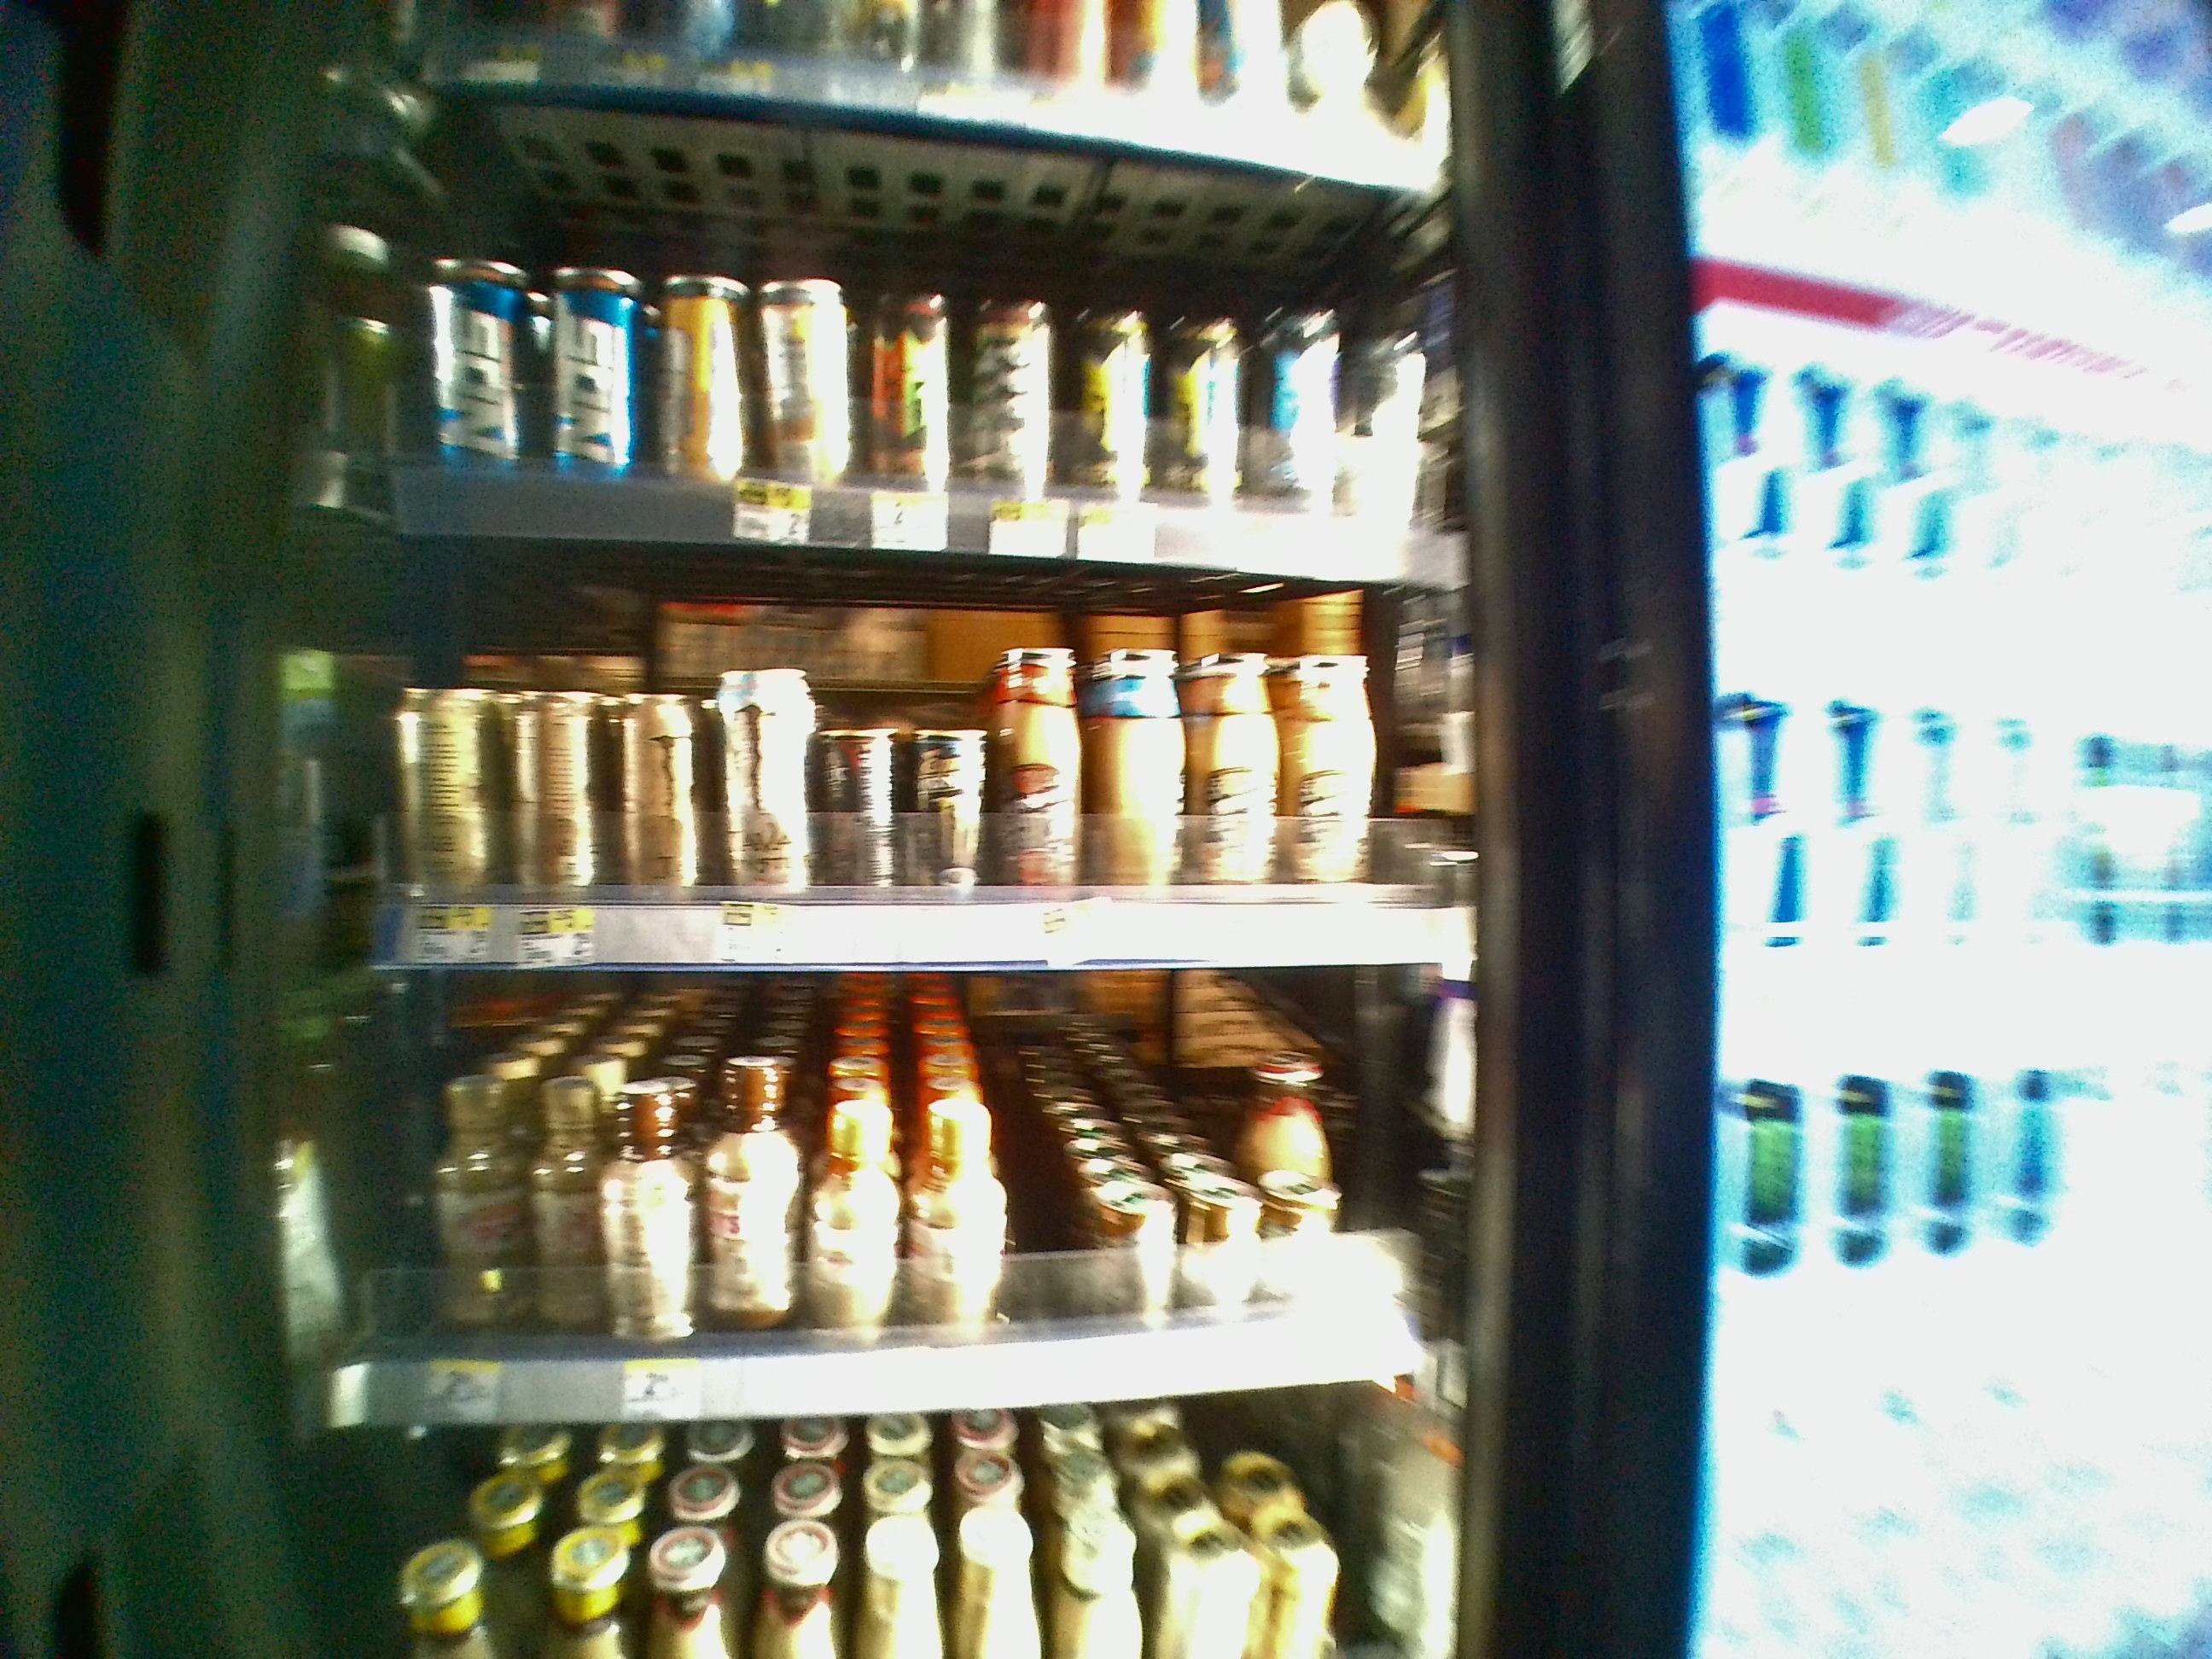shelf: (266, 976, 1512, 1406), (280, 552, 1501, 967)
